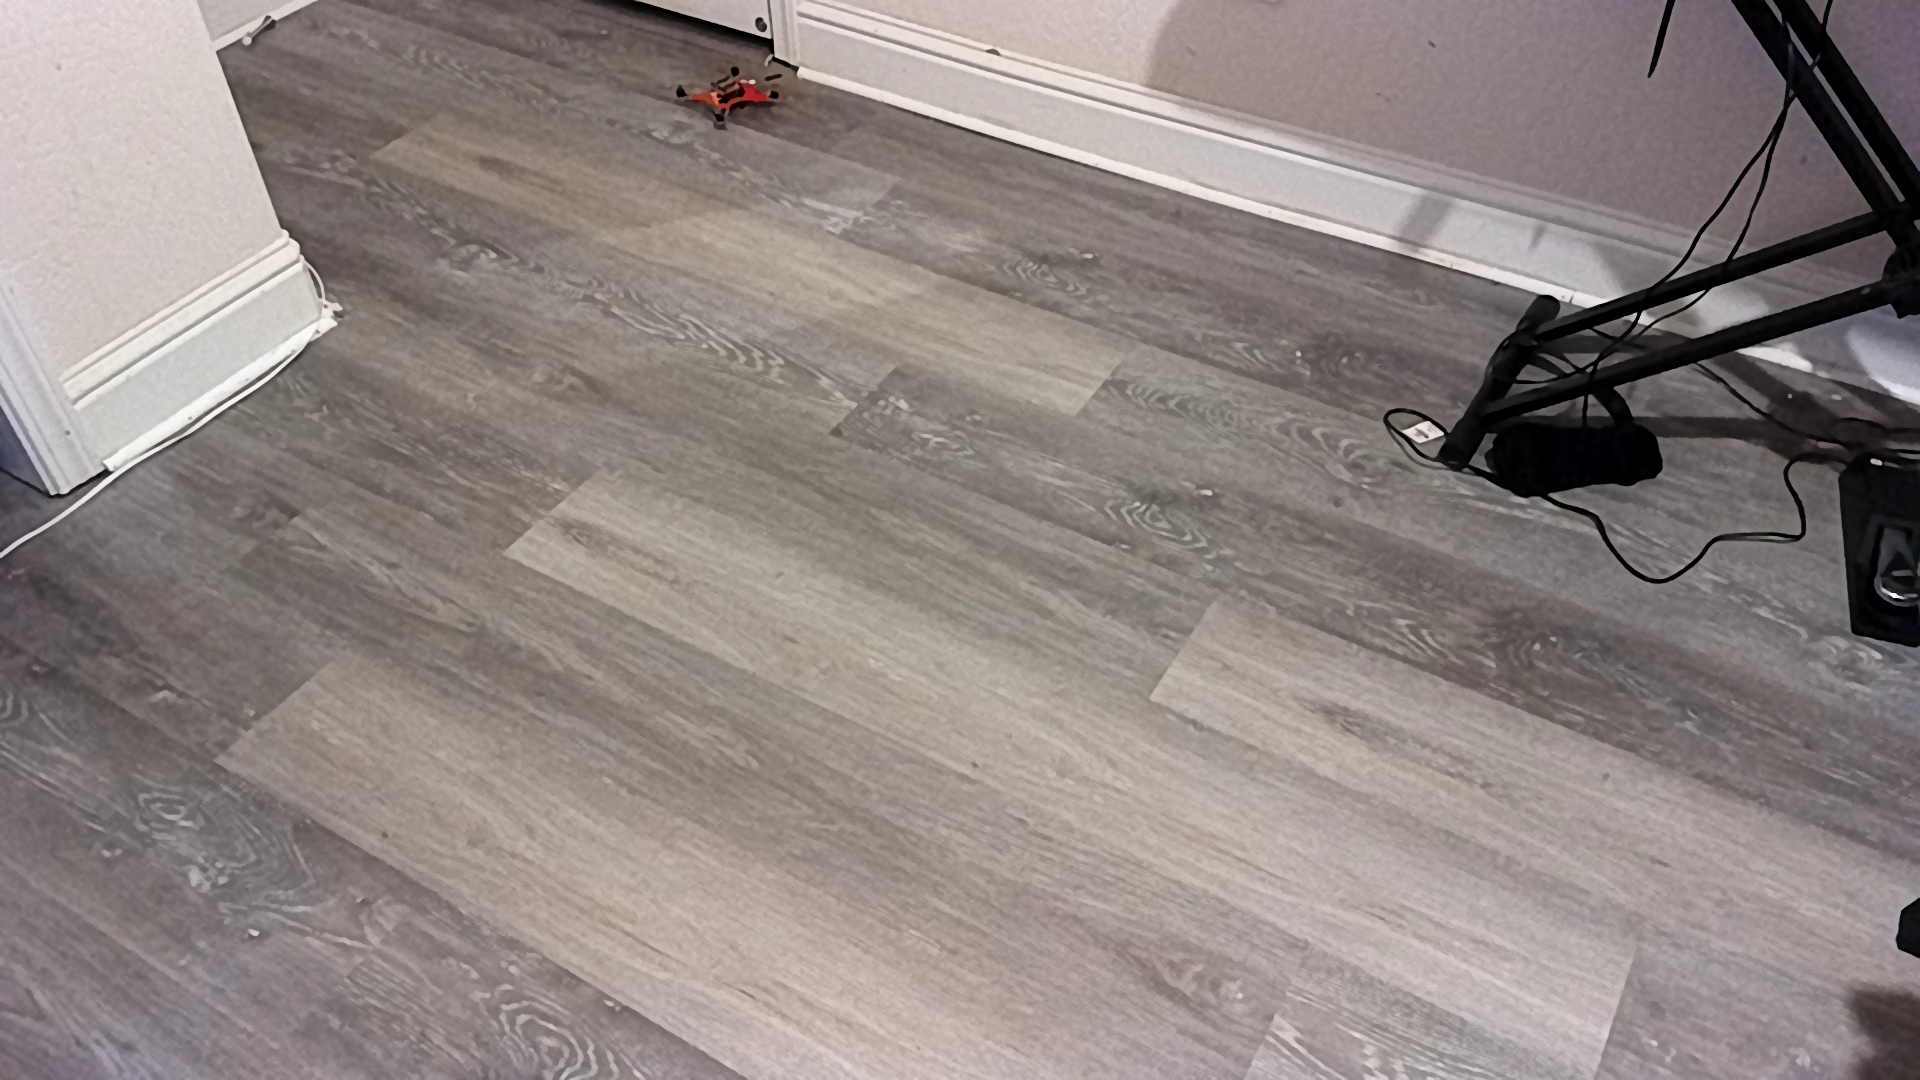drone: (662, 49, 807, 138)
